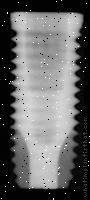Biomet 3i: (10, 12, 84, 189)
